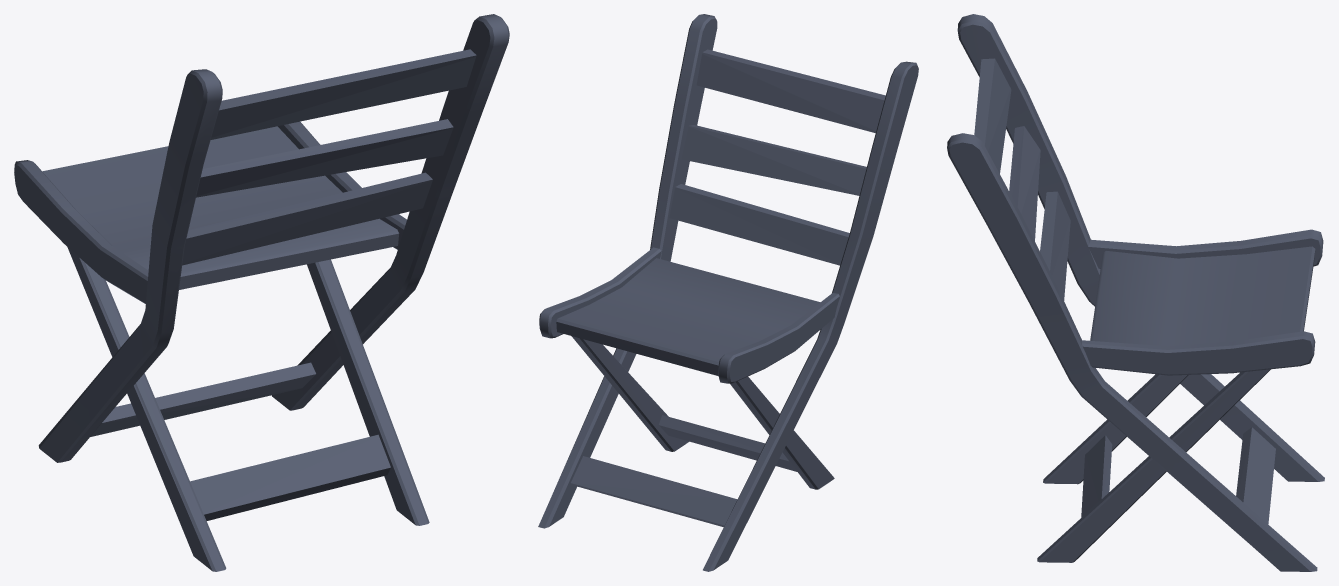
Rendered from Chair.FBX.
3 renders of one model, left to right at view 1: azimuth 30°, elevation 25°; view 2: azimuth 150°, elevation 25°; view 3: azimuth 270°, elevation 25°, orthographic. The views are drawn at different scales.
Parts seen in each view (by area): view 1: Chair001; view 2: Chair001; view 3: Chair001.
Part boxes in pixels (x1,y1,x2,y2): Chair001: (14,14,509,571); Chair001: (538,14,918,571); Chair001: (947,14,1324,571).
Size of the model in its own units: 66.97 by 116 by 90.21.
